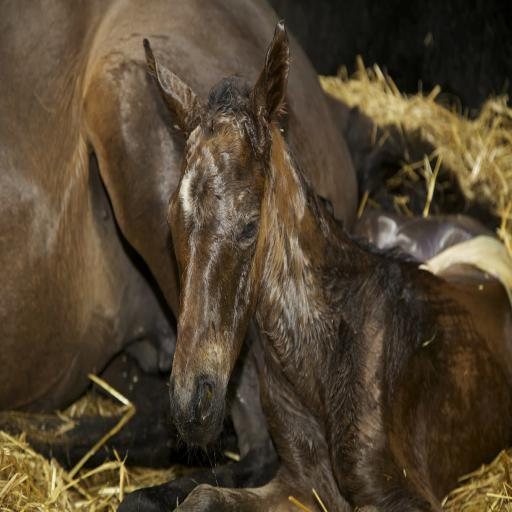horse: (28, 19, 512, 512), (0, 0, 490, 445)
